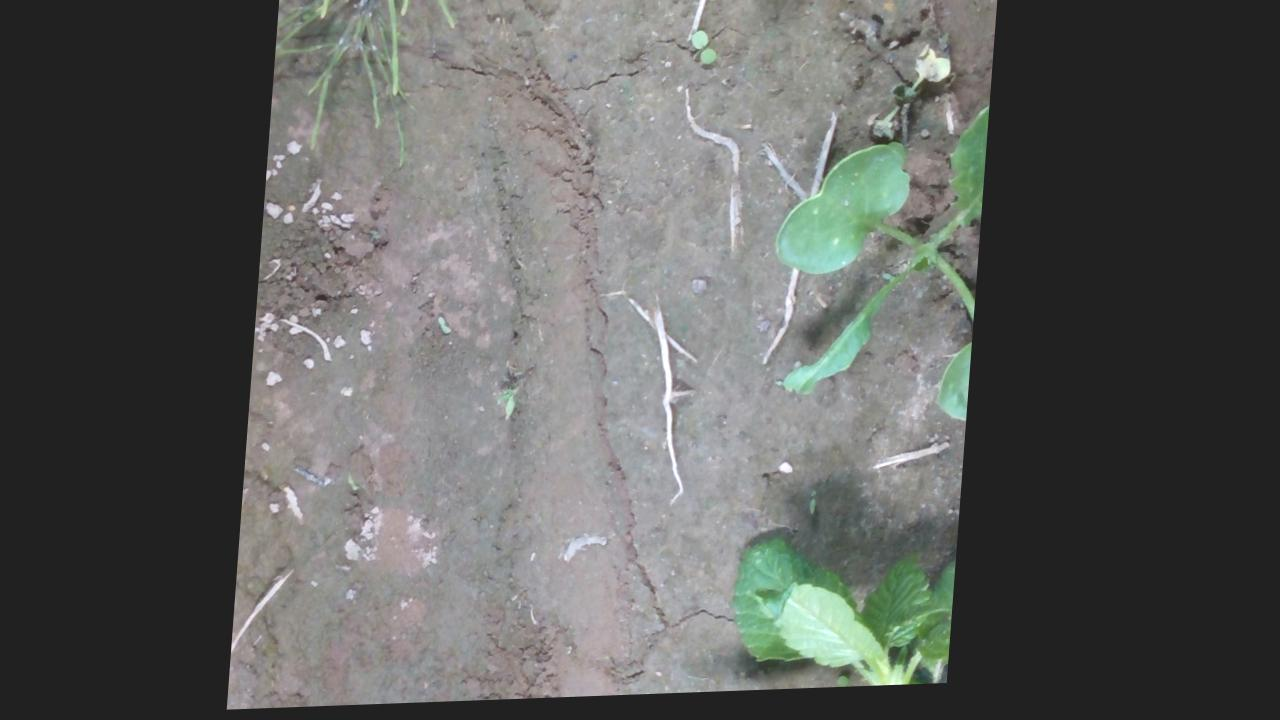weed: (688, 34, 720, 73), (812, 494, 827, 523)
